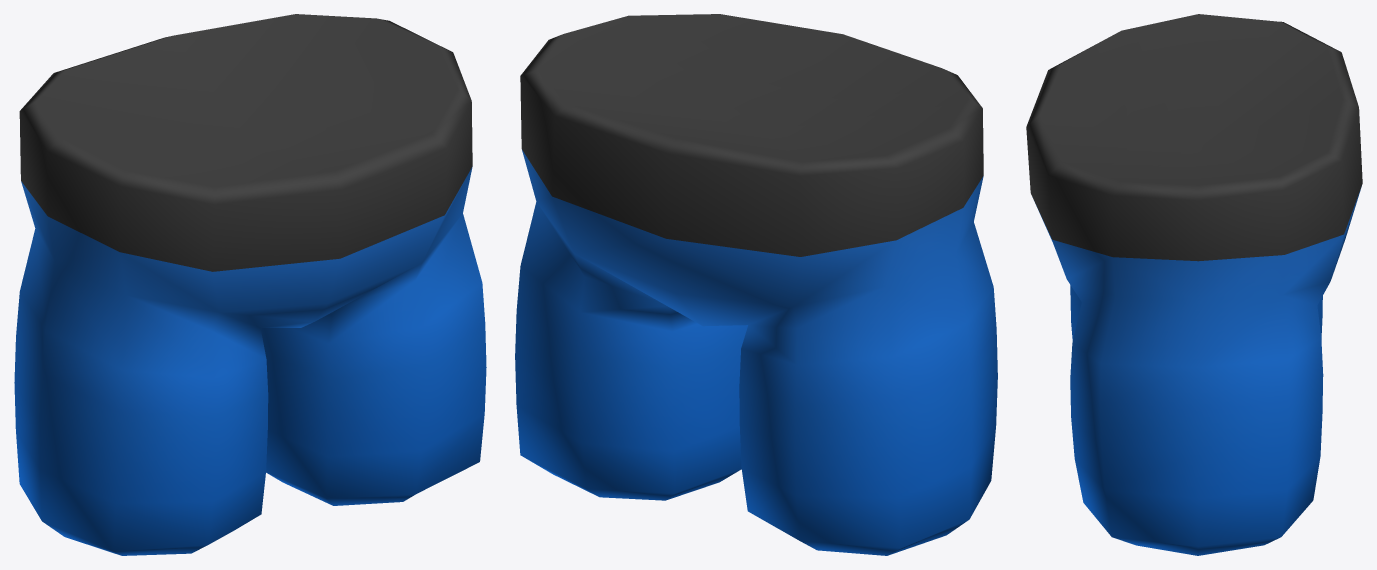
File: Bottom_47.fbx
The picture shows the model from 3 angles, left to right: view 1: azimuth 30°, elevation 25°; view 2: azimuth 150°, elevation 25°; view 3: azimuth 270°, elevation 25°; orthographic projection. The views are drawn at different scales.
Parts seen in each view (by area): view 1: Bottom_47; view 2: Bottom_47; view 3: Bottom_47.
Part boxes in pixels (bbox=[...]): Bottom_47: bbox=[14, 14, 486, 555]; Bottom_47: bbox=[515, 14, 997, 555]; Bottom_47: bbox=[1026, 14, 1362, 555].
Size of the model in its own units: 39.97 by 36.42 by 29.68.
